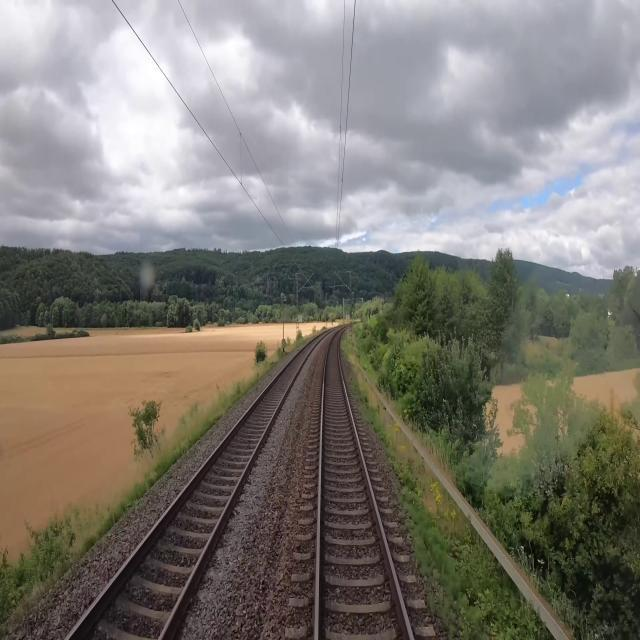Plant: (340, 334, 503, 639)
